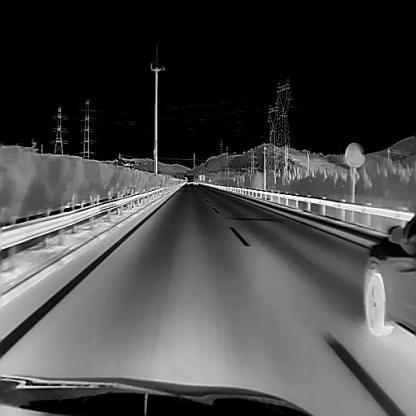car: (364, 214, 416, 336), (193, 174, 198, 184)
